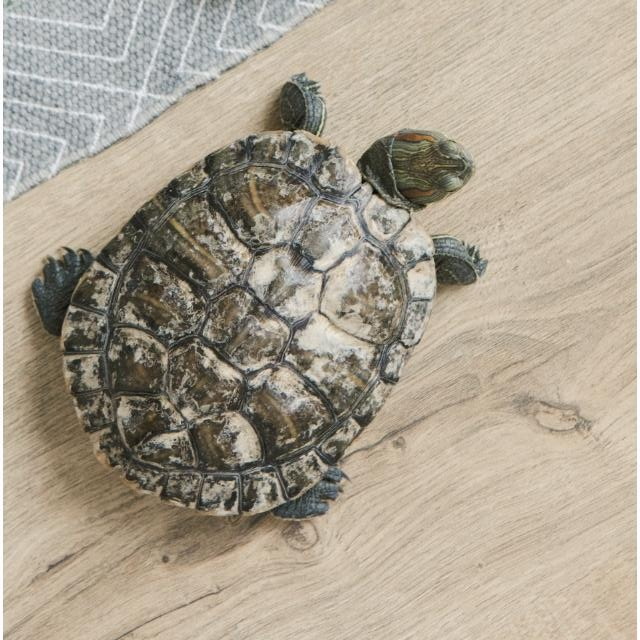turtle: (27, 74, 489, 518)
